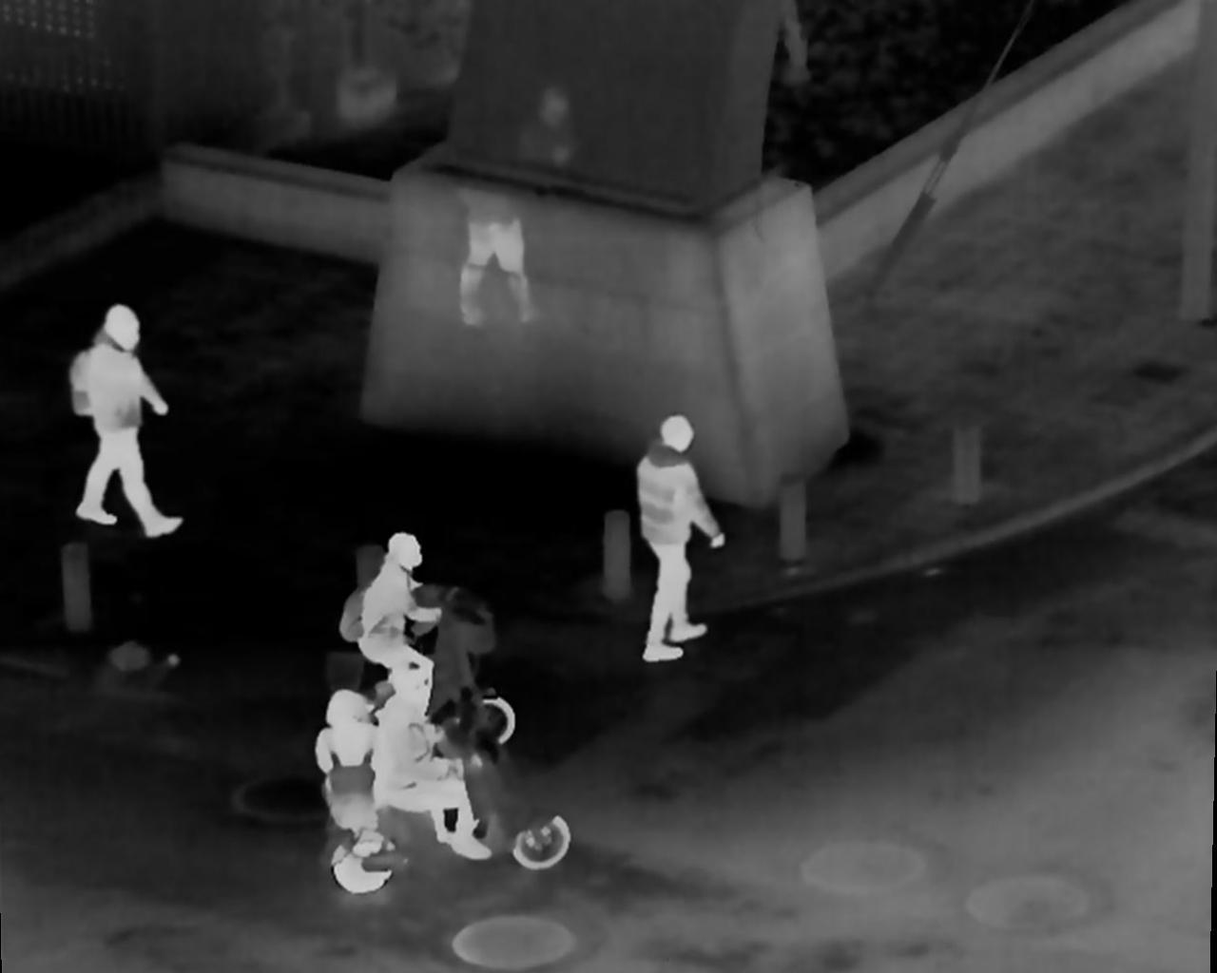person: (57, 307, 181, 532), (638, 412, 724, 662), (371, 676, 475, 854), (345, 532, 444, 709), (295, 687, 391, 841)
